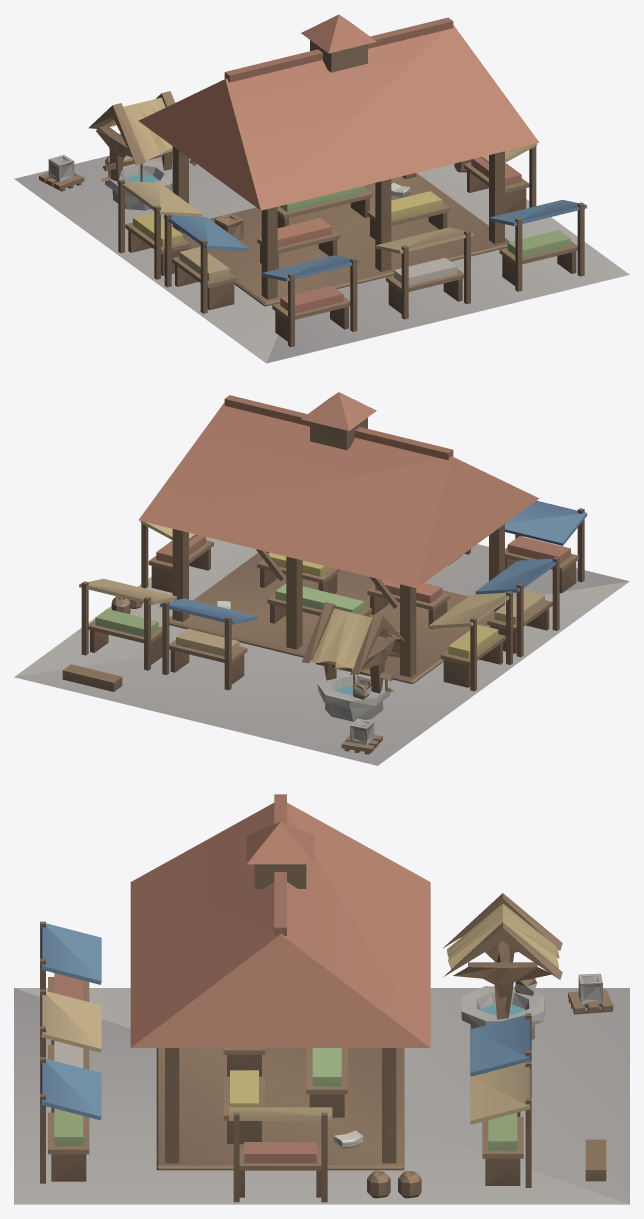
The model's file is market_small.l2.glb.
3 views of the same model, one above another, from view 1: azimuth 30°, elevation 25°; view 2: azimuth 150°, elevation 25°; view 3: azimuth 270°, elevation 25° (orthographic). The views are drawn at different scales.
Visible parts, largest first — view 1: market_small; view 2: market_small; view 3: market_small.
Part boxes in pixels (x1,y1,x2,y2): market_small: [14, 14, 629, 363]; market_small: [14, 392, 629, 765]; market_small: [14, 794, 629, 1204].
Bounding box in the file's own units: 4.96 × 2.95 × 5.96.
